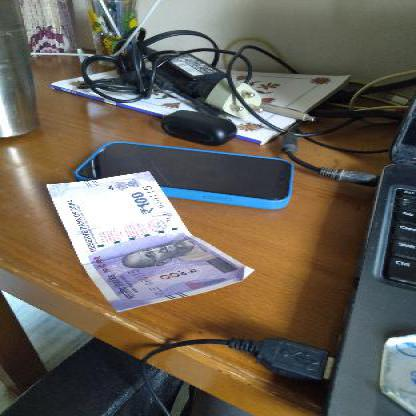New100Front: (36, 172, 235, 308)
